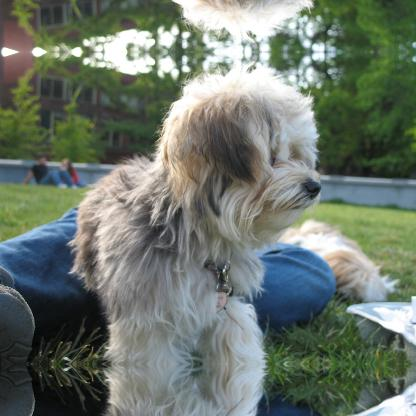Dog: (66, 57, 320, 363), (276, 218, 402, 302)
